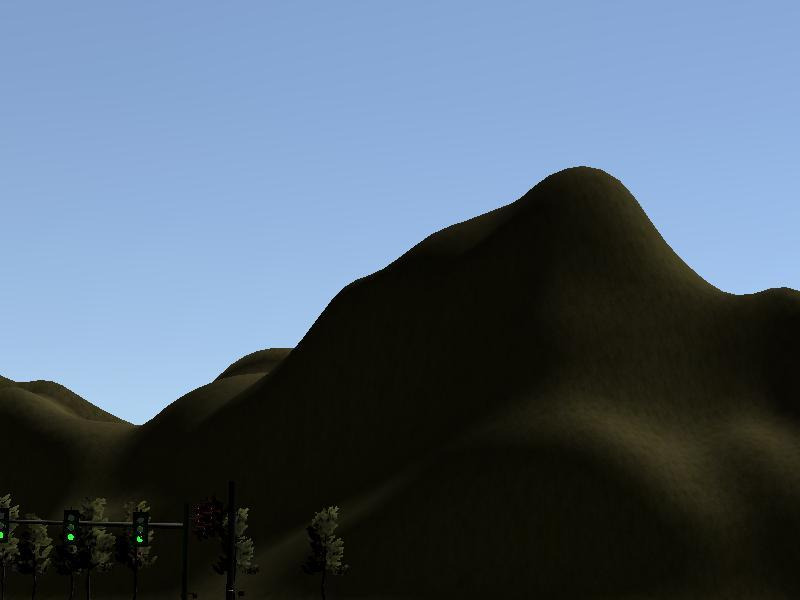Green: (61, 510, 80, 547), (132, 511, 148, 547), (1, 515, 11, 543)
